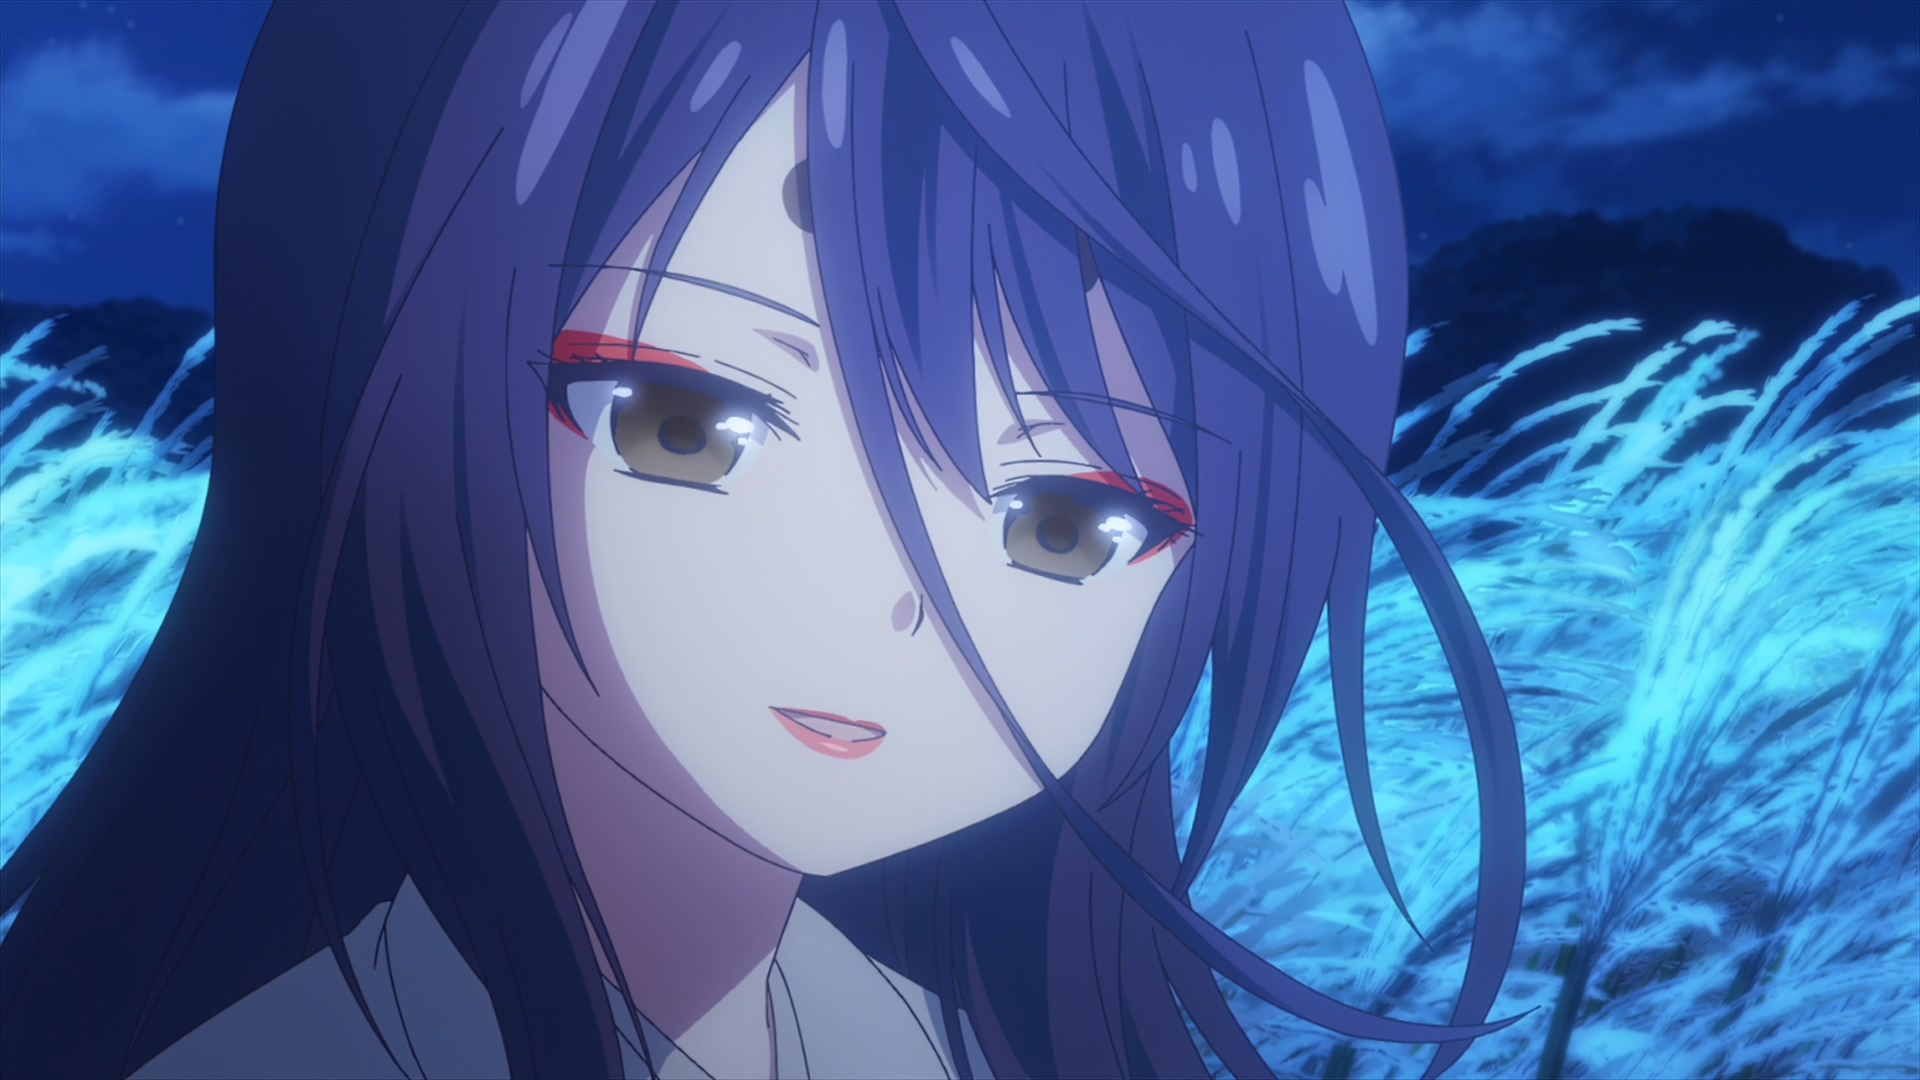皋: (1, 1, 1542, 1080)
